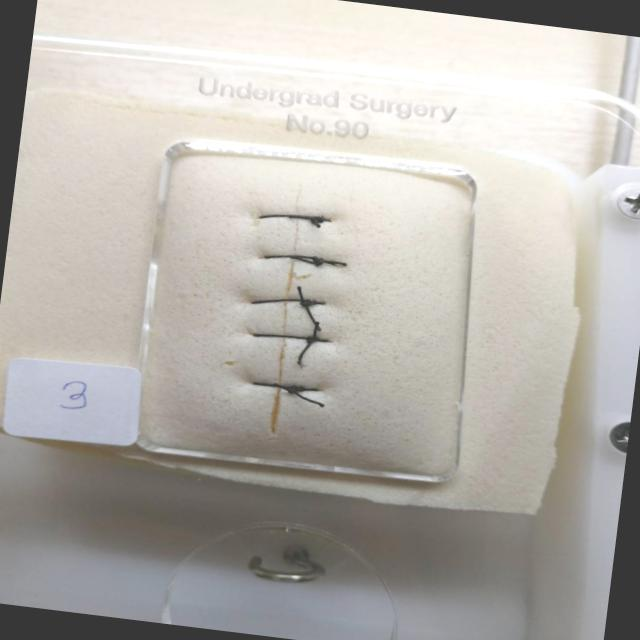knot: (300, 299, 316, 306), (310, 216, 325, 223), (312, 256, 323, 265), (306, 336, 319, 342), (287, 386, 298, 393)
leftover: (288, 387, 326, 408), (300, 300, 322, 332), (297, 335, 314, 369), (270, 380, 296, 393), (313, 257, 349, 266), (286, 255, 320, 264), (308, 318, 321, 341), (294, 283, 307, 305), (285, 213, 323, 220), (311, 215, 323, 230)
stitch: (260, 253, 339, 267), (249, 332, 331, 343), (254, 212, 333, 223), (249, 380, 321, 392), (247, 298, 328, 305)
wound: (268, 183, 302, 434)
